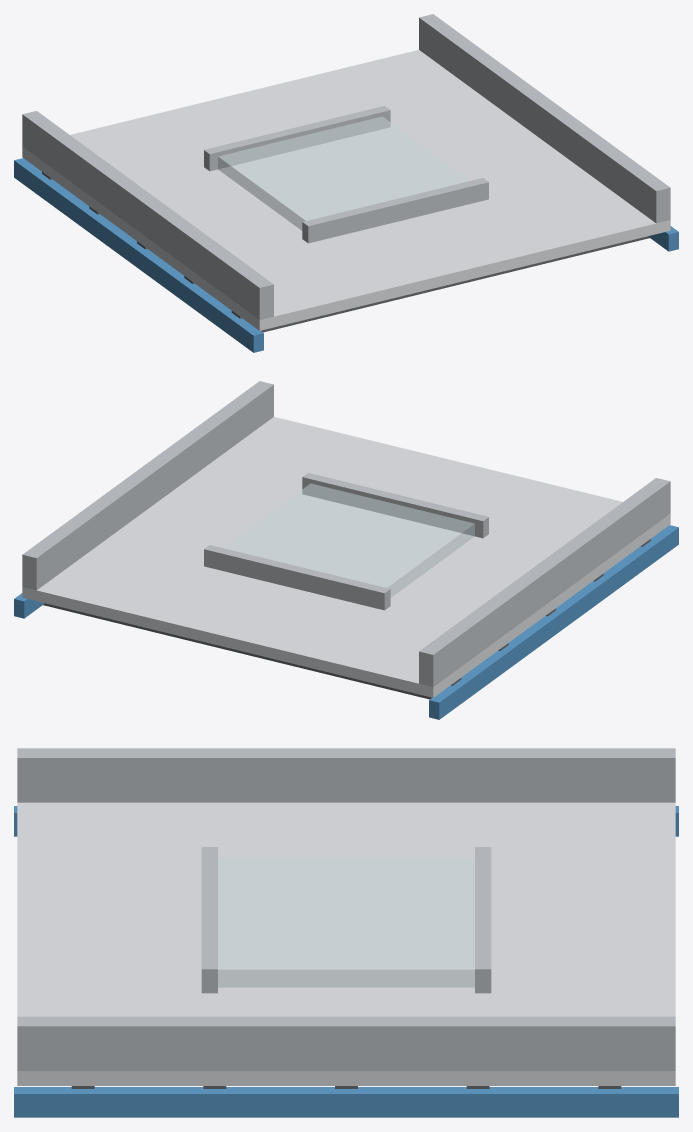
Rendered from ferry-terminal-and-harbour-crossing-ferry-terminal-and-38994e26__35651.glb.
3 renders of one model, top to bottom at view 1: azimuth 30°, elevation 25°; view 2: azimuth 150°, elevation 25°; view 3: azimuth 270°, elevation 25°, orthographic. The views are drawn at different scales.
Parts seen in each view (by area): view 1: ferry-terminal-and-harbour-crossing-terminal-roof-section; view 2: ferry-terminal-and-harbour-crossing-terminal-roof-section; view 3: ferry-terminal-and-harbour-crossing-terminal-roof-section.
Part boxes in pixels (x1,y1,x2,y2): ferry-terminal-and-harbour-crossing-terminal-roof-section: (14,14,678,352); ferry-terminal-and-harbour-crossing-terminal-roof-section: (14,381,678,719); ferry-terminal-and-harbour-crossing-terminal-roof-section: (14,748,678,1117).
Bounding box in the file's own units: 4.14 × 0.6 × 4.04.
